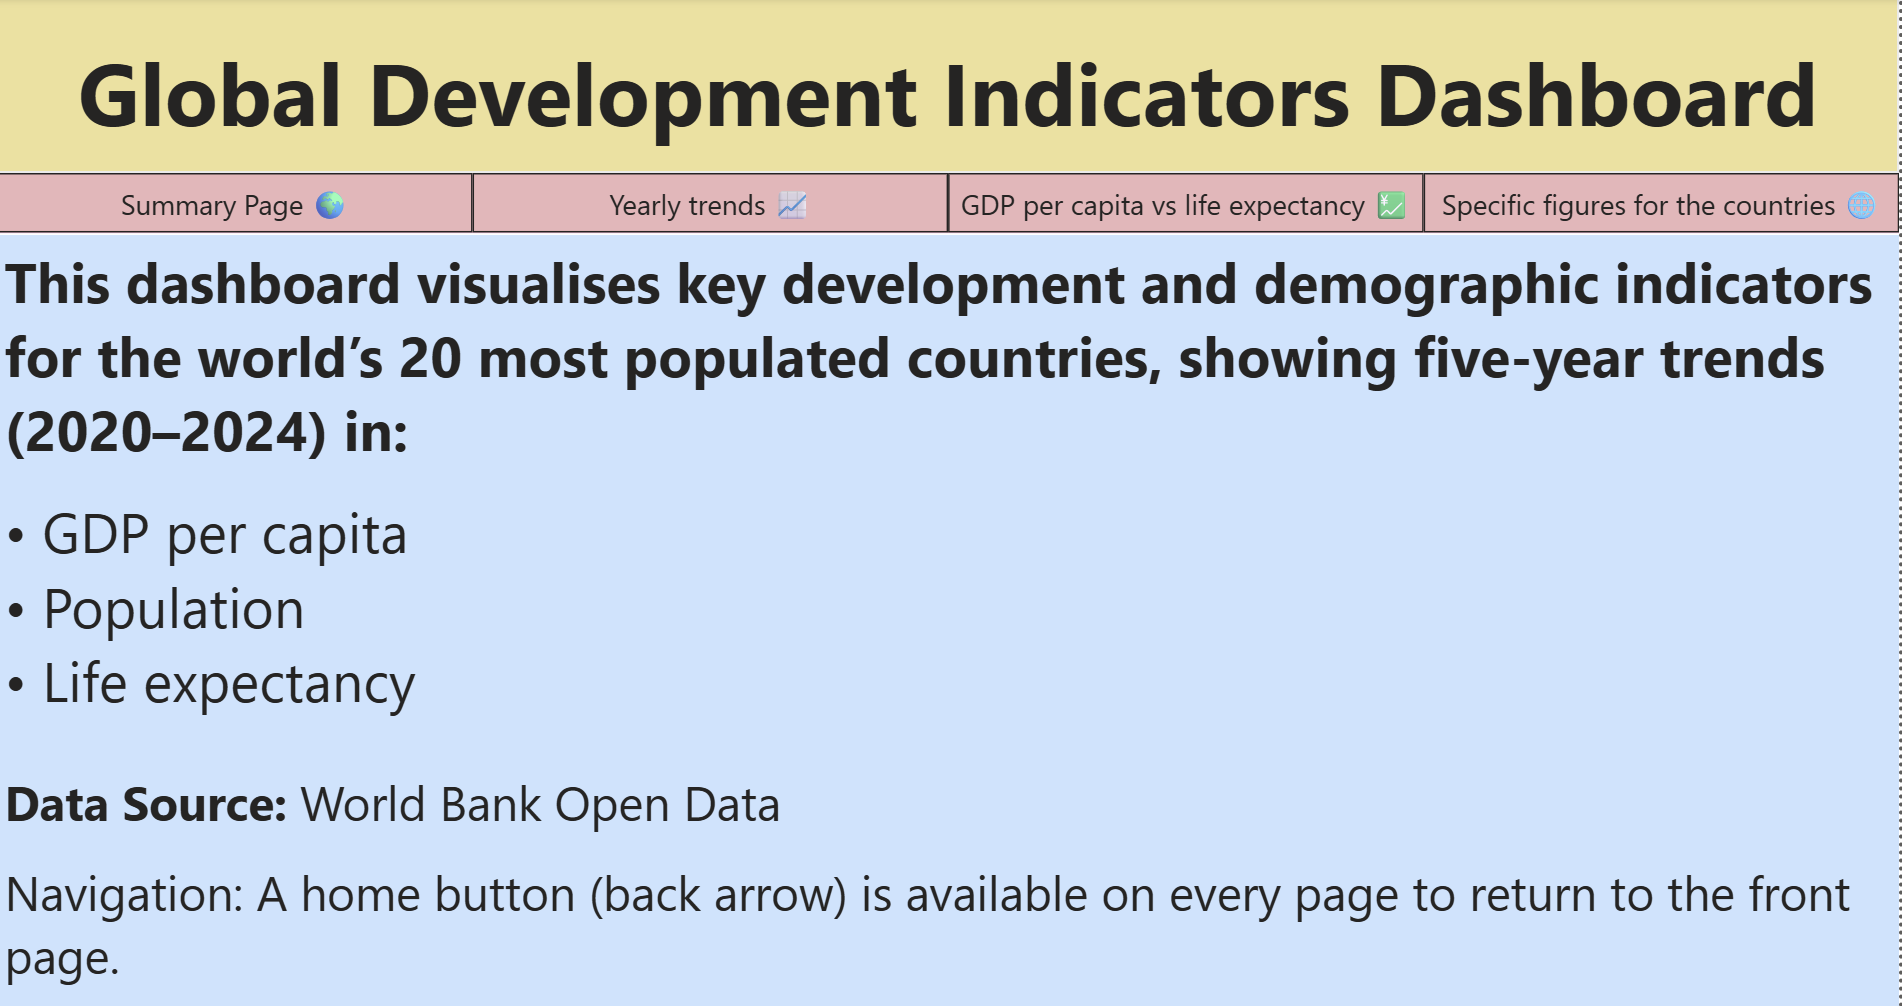

Layout of this report page (visuals, bound fields, positions):
{"tool":"powerbi","page":{"name":"Front Page 💡 ","canvas":[1280,720],"ordinal":0},"visuals":[{"type":"textbox","box":[0,159.8,1286.3,567.1],"z":0},{"type":"textbox","box":[0,0,1280,119.1],"z":1000},{"type":"pageNavigator","box":[0,119.1,1283.1,40.7],"z":2000}]}

Visuals, with their boxes on the page's 1280x720 design canvas (x1, y1, x2, y2). These are canvas units, not pixel positions in the 1902x1006 screenshot, which may show the page scaled, cropped or inside an application window:
textbox: {"x1": 0, "y1": 160, "x2": 1286, "y2": 727}
textbox: {"x1": 0, "y1": 0, "x2": 1280, "y2": 119}
pageNavigator: {"x1": 0, "y1": 119, "x2": 1283, "y2": 160}
